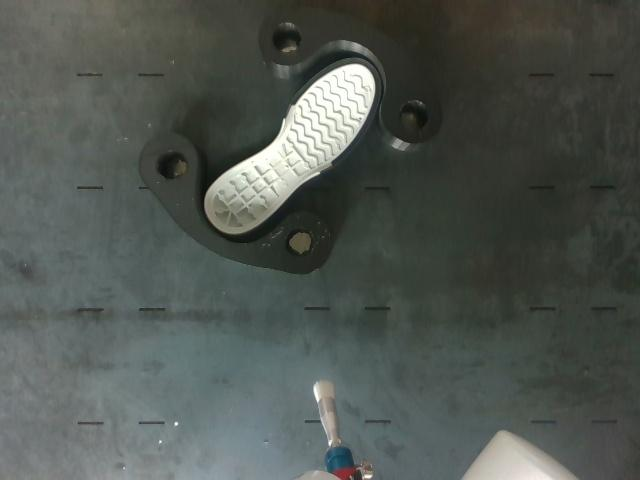shoes: (206, 60, 380, 233)
